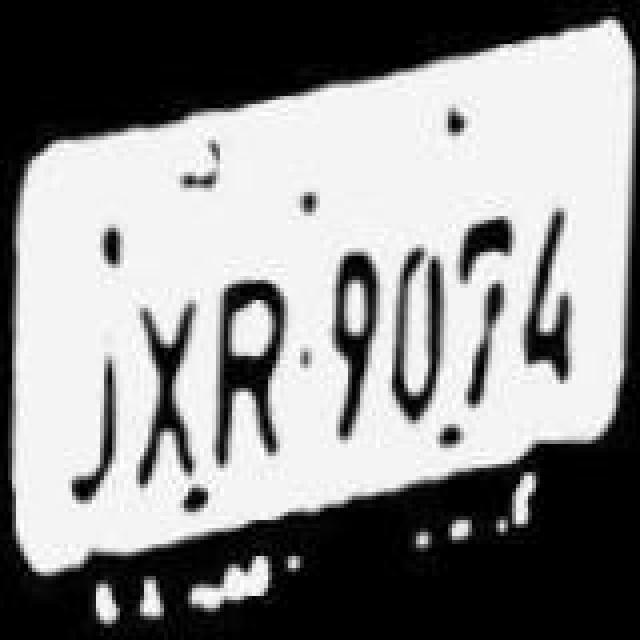4: (508, 210, 576, 442)
7: (442, 202, 514, 446)
9: (306, 240, 382, 472)
J: (52, 308, 128, 520)
O: (378, 230, 450, 458)
R: (206, 266, 298, 502)
X: (126, 278, 210, 506)
